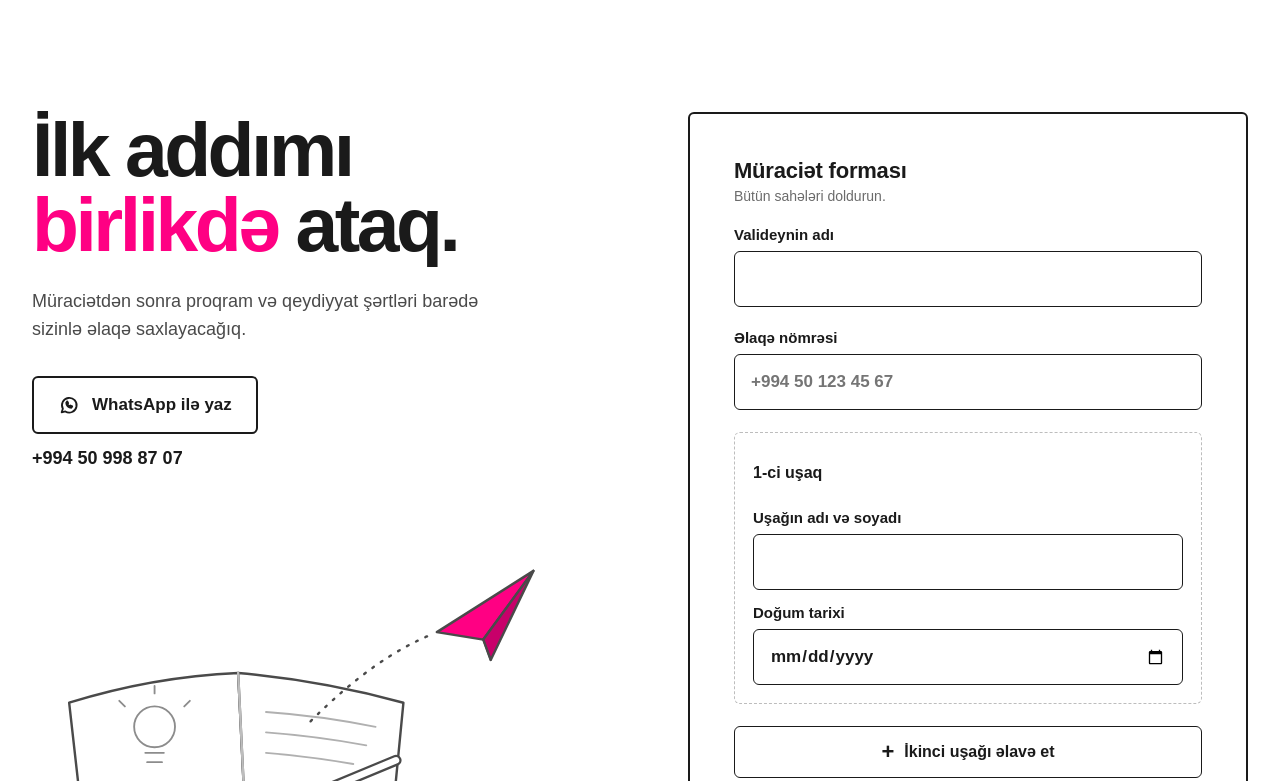
Test: Apply form › children › adds a second child (with the family discount note) and removes it again
This screenshot has width=1280, height=781.
Expected: the text "Ailə endirimi" is not shown
Click the button "+ İkinci uşağı əlavə et" at coordinates (968, 752), box [734,726,1202,778]
(page scrolled)
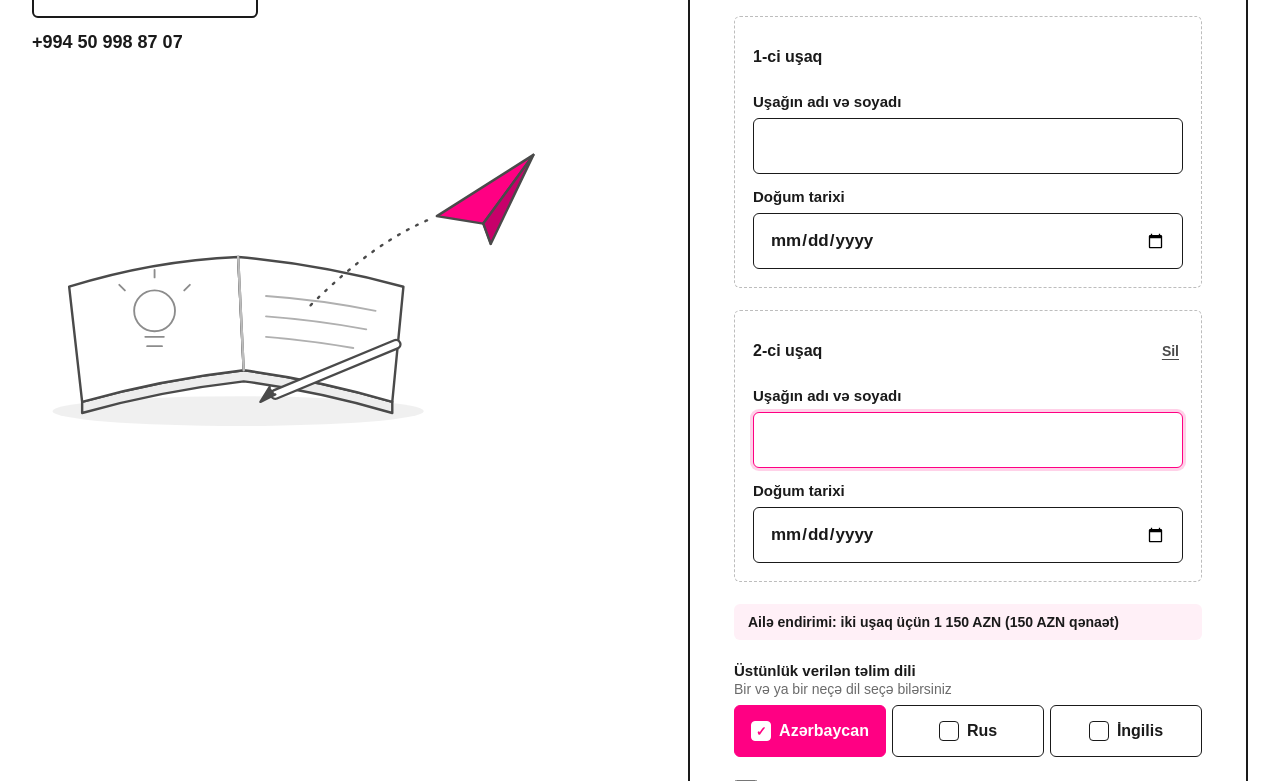
Now the element "2-ci uşaq" is shown, box [734,310,1202,582]
Now the text "Ailə endirimi: iki uşaq üçün 1 150 AZN (150 AZN qənaət)" is shown, box [734,604,1202,640]
Now the button "İkinci uşağı əlavə et" is gone
Click the button with aria-label "2-ci uşağı sil" at coordinates (1170, 351), box [1158,329,1183,373]
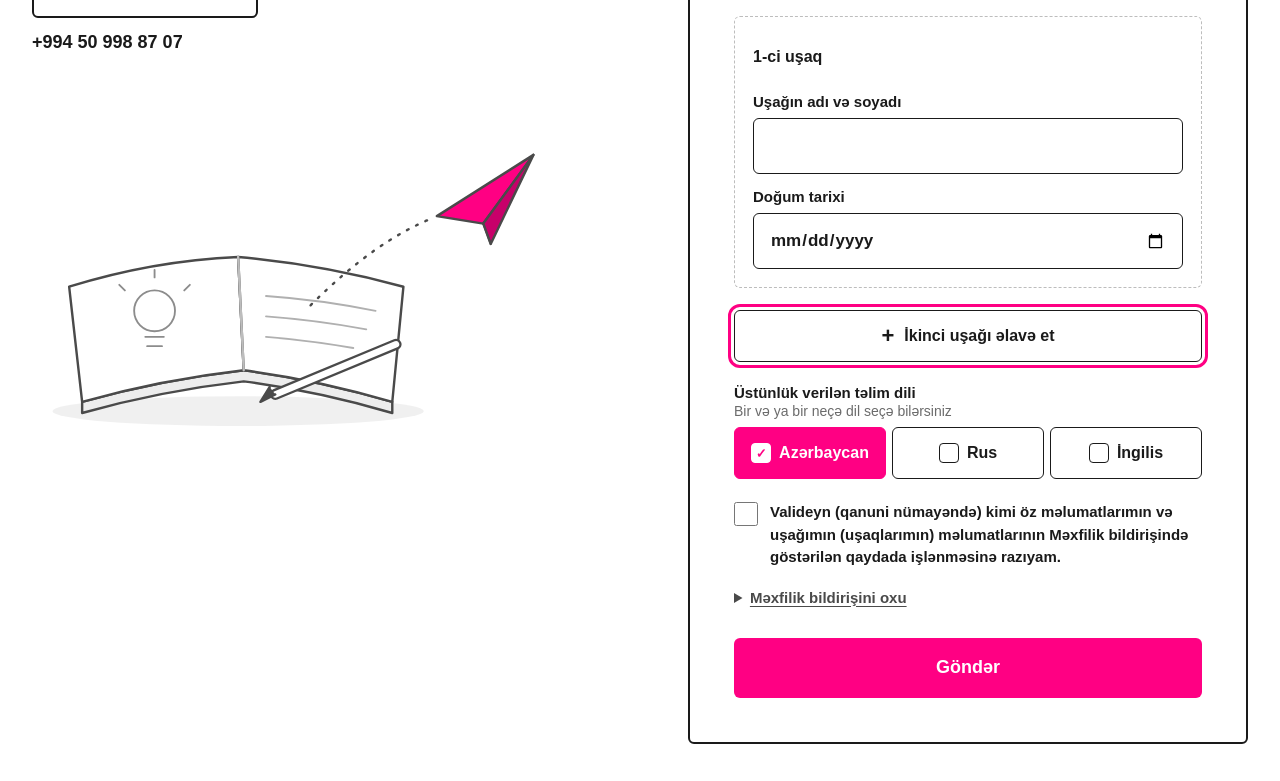
Now the text "2-ci uşaq" is gone
Now the button "+ İkinci uşağı əlavə et" is shown, box [734,310,1202,362]
